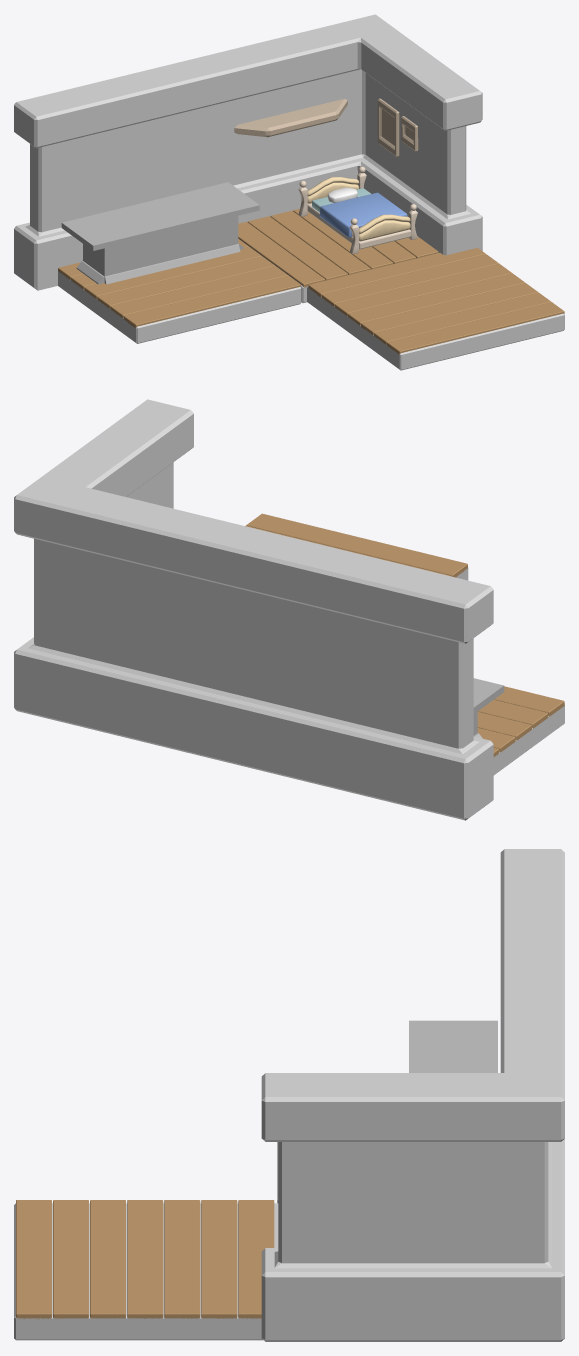
The model's file is room2.fbx.
3 renders of one model, top to bottom at view 1: azimuth 30°, elevation 25°; view 2: azimuth 150°, elevation 25°; view 3: azimuth 270°, elevation 25°, orthographic. The views are drawn at different scales.
Visible parts, largest first — view 1: walling, floor plank.002, Plane.012, floor plank.001, floor plank, floor.002, floor.001, shelf, Plane.010, picture frame, Plane.002, Plane (+1 smaller); view 2: walling, floor plank.002, floor plank.001, floor.001, Plane.012; view 3: walling, floor plank.002, floor.002, Plane.012.
Boxes of the visible parts, left/top/right/bottom form: walling: left=14, top=14, right=482, bottom=290; floor plank.002: left=308, top=247, right=564, bottom=354; Plane.012: left=61, top=182, right=259, bottom=284; floor plank.001: left=58, top=239, right=300, bottom=328; floor plank: left=238, top=208, right=438, bottom=287; floor.002: left=307, top=285, right=564, bottom=370; floor.001: left=58, top=271, right=301, bottom=343; shelf: left=234, top=99, right=347, bottom=137; Plane.010: left=319, top=192, right=407, bottom=237; picture frame: left=377, top=98, right=418, bottom=156; Plane.002: left=359, top=214, right=410, bottom=241; Plane: left=307, top=203, right=411, bottom=249; walling: left=14, top=399, right=493, bottom=820; floor plank.002: left=245, top=513, right=467, bottom=577; floor plank.001: left=477, top=686, right=564, bottom=757; floor.001: left=493, top=704, right=564, bottom=775; Plane.012: left=473, top=678, right=504, bottom=738; walling: left=261, top=849, right=564, bottom=1341; floor plank.002: left=16, top=1200, right=274, bottom=1319; floor.002: left=14, top=1203, right=278, bottom=1340; Plane.012: left=409, top=1020, right=497, bottom=1072.
Size of the model in its own units: 440 by 201 by 408.
